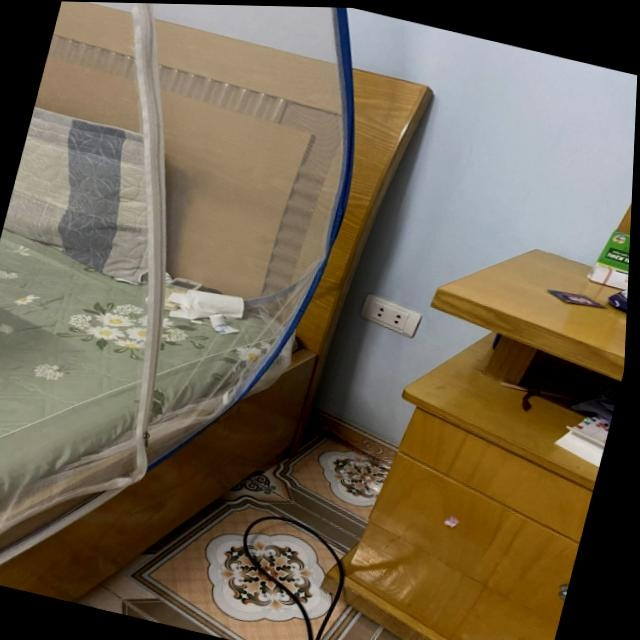outlet: (355, 291, 424, 339)
